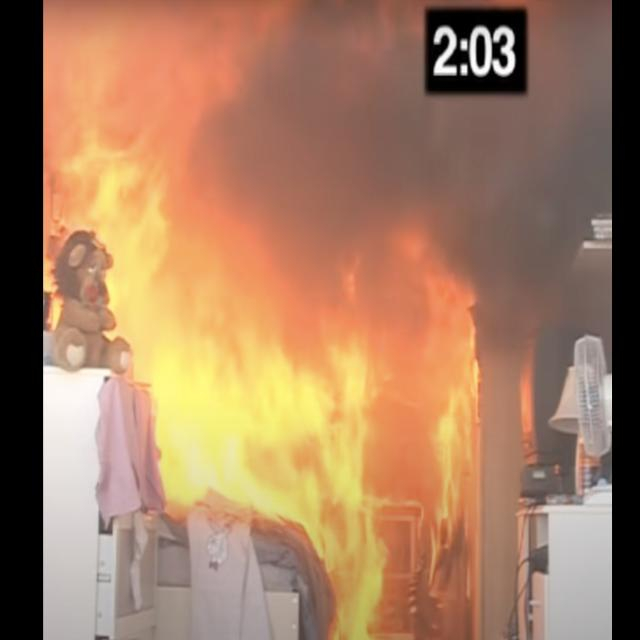Fogo: (46, 17, 606, 632)
